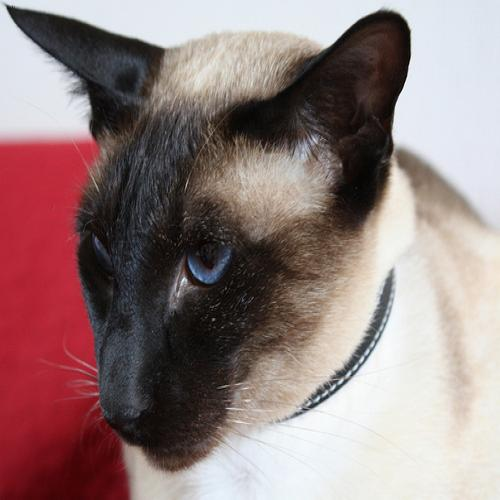siamese: (4, 1, 428, 478)
